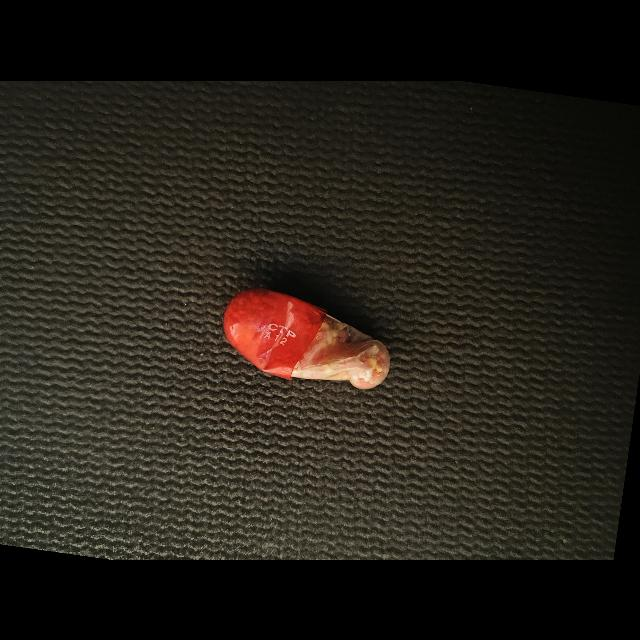Defective Capsule: (223, 288, 390, 389)
